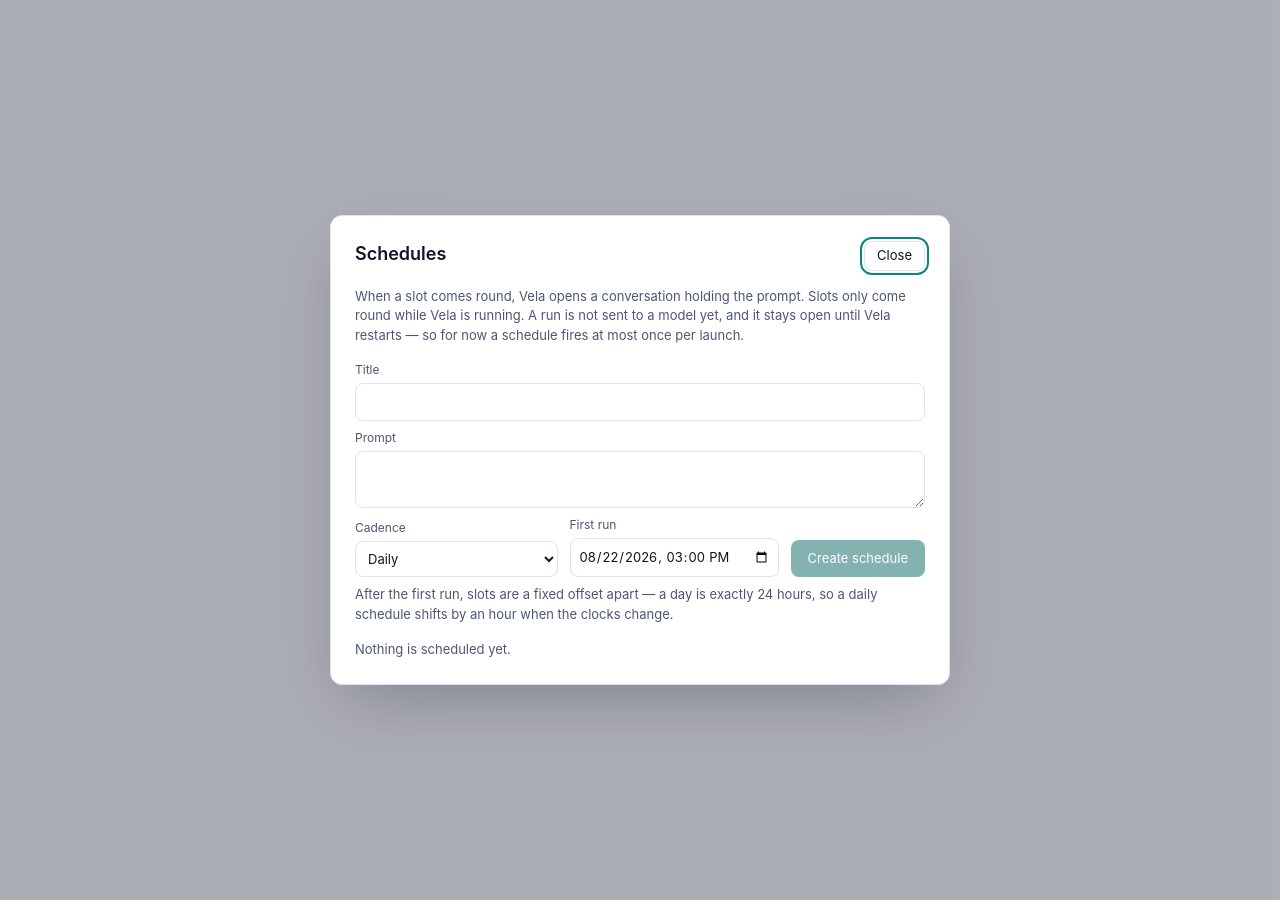
Test: the schedules pane › opens the run history on request and does not read it before
Click the field labelled "Title": x=640, y=402 top-left (355, 383), bottom-right (925, 421)
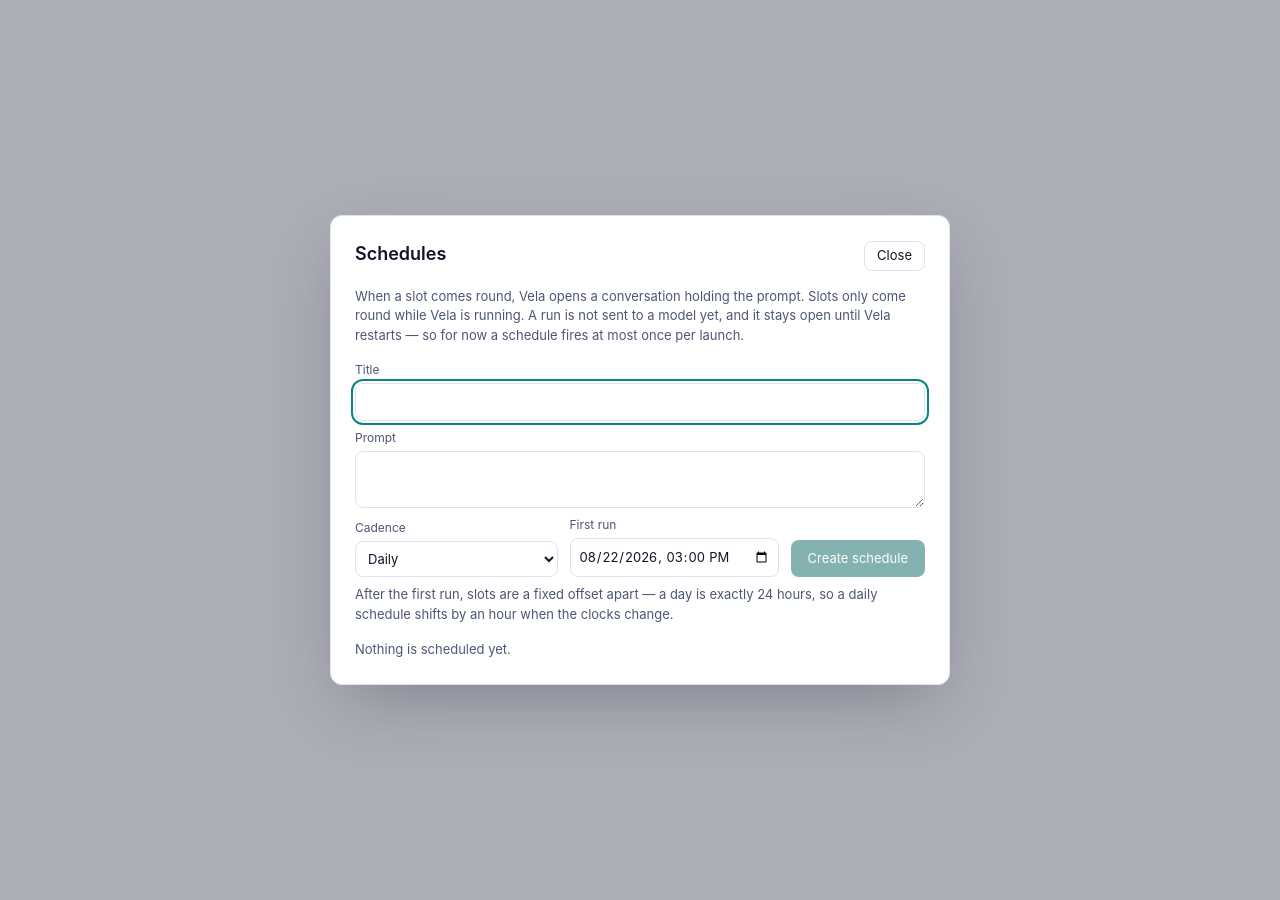
Type keys "morning digest"
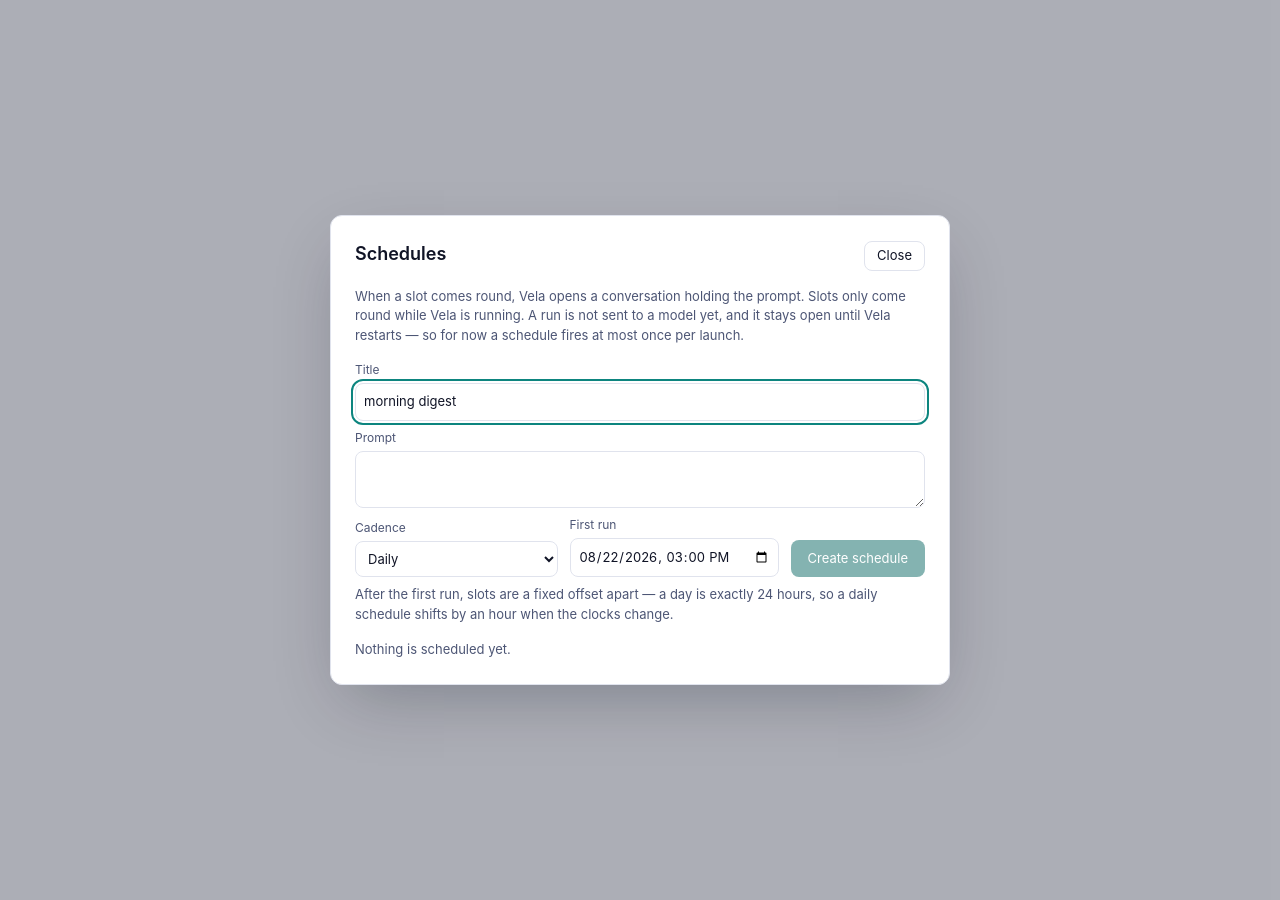
Click the text box labelled "Prompt": x=640, y=479 top-left (355, 451), bottom-right (925, 508)
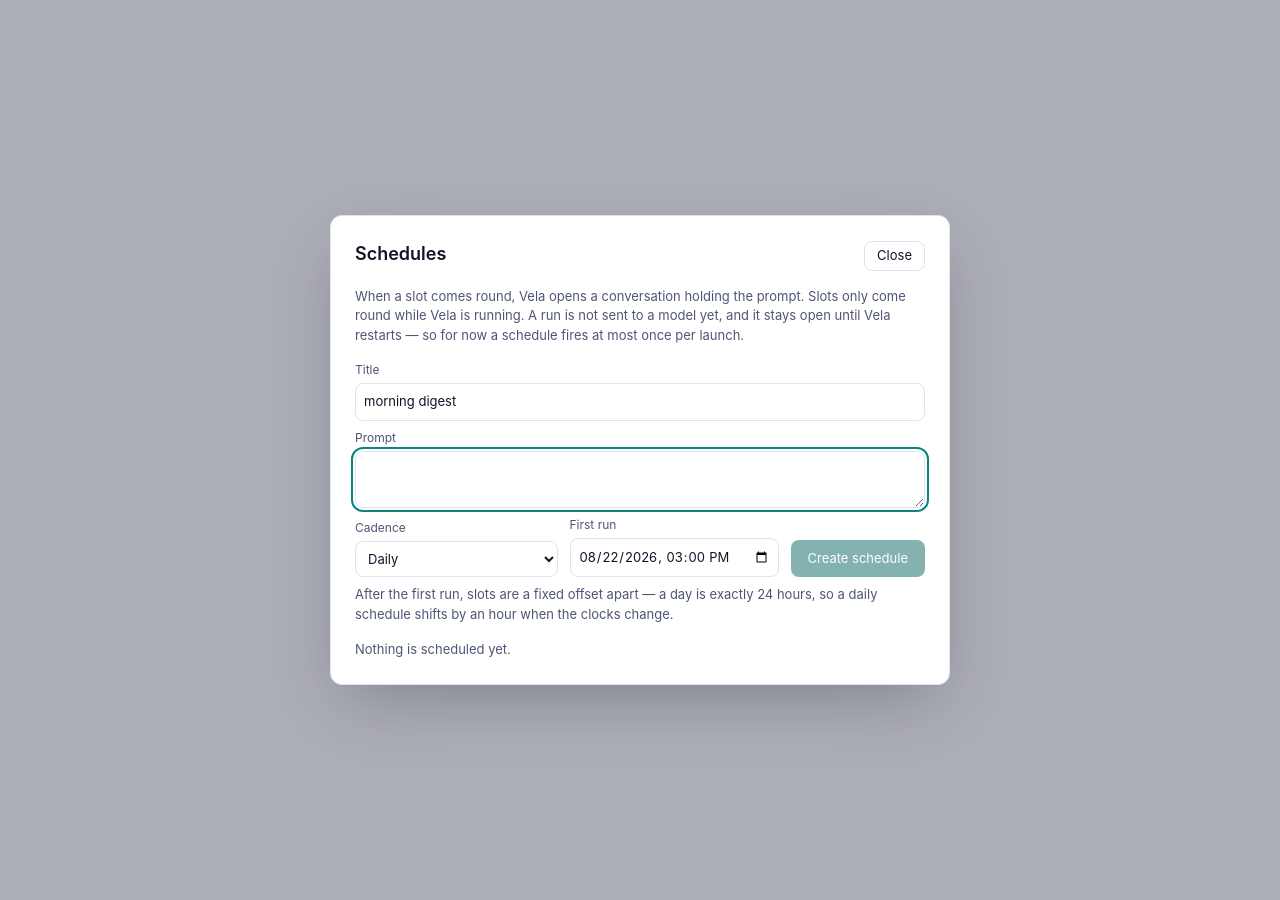
Type keys "summarise"
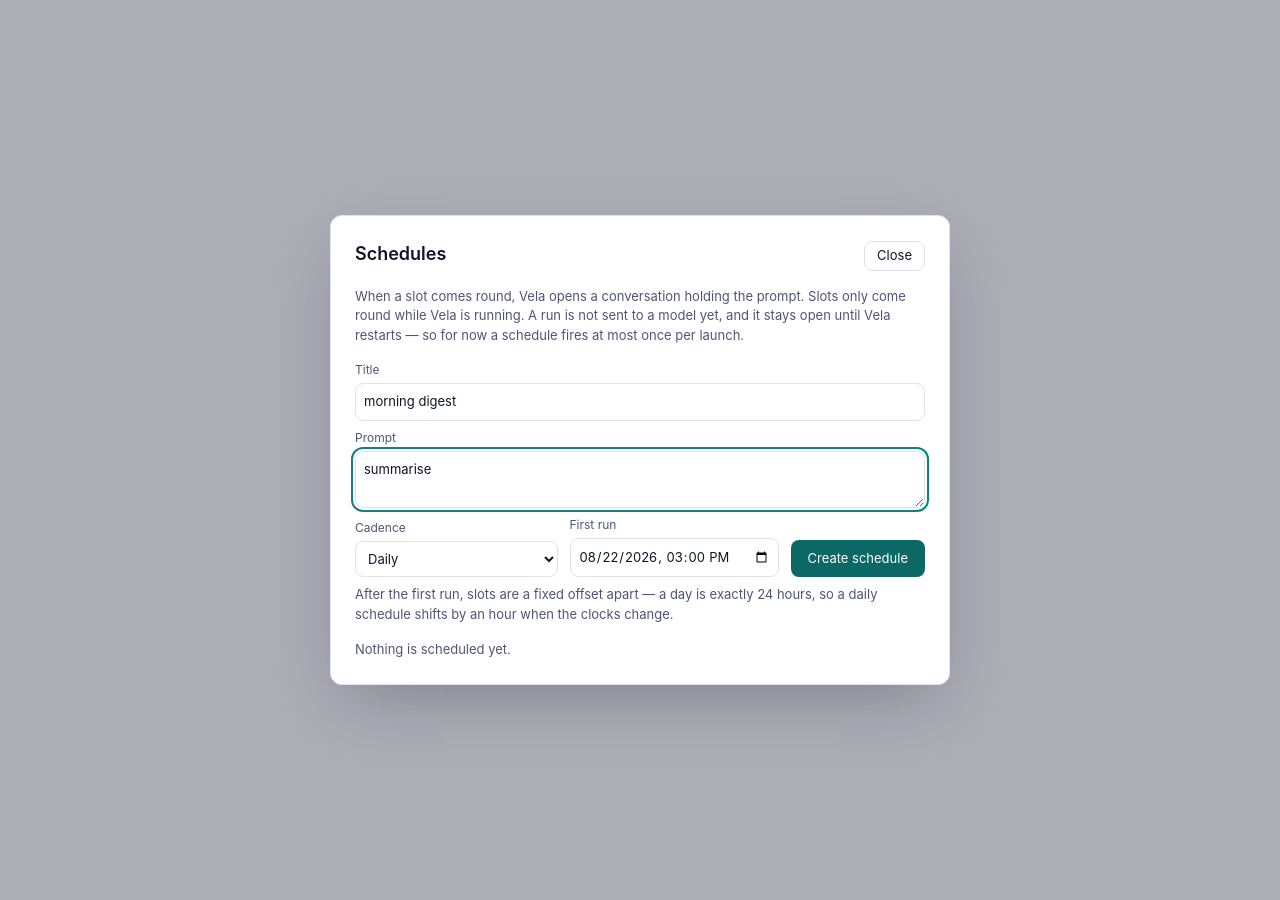
Click the button "Create schedule": x=858, y=559 top-left (790, 540), bottom-right (925, 577)
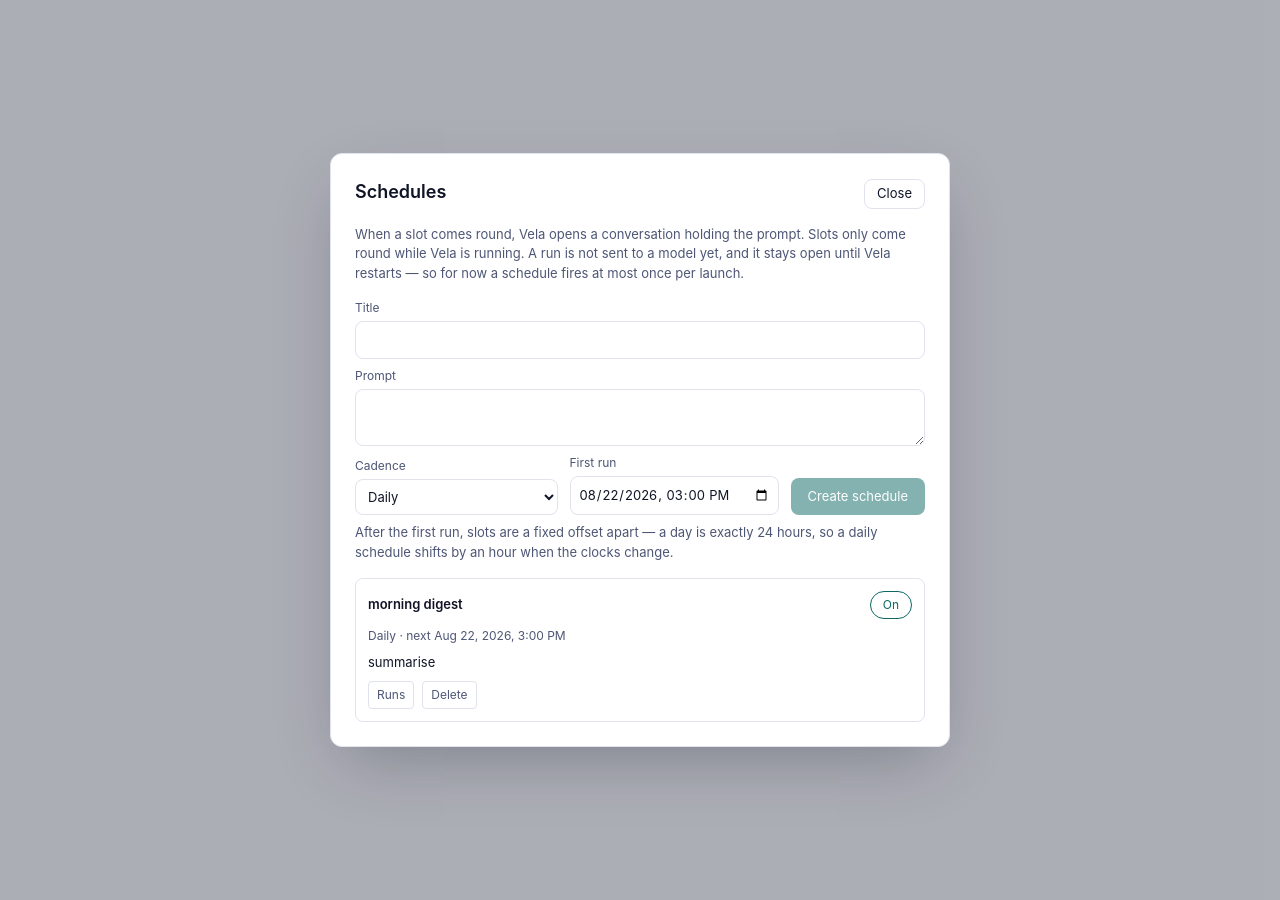
Result: the switch named "Enabled: morning digest" is shown at top-left (870, 591), bottom-right (912, 619)
Click the button with aria-label "Runs: morning digest": x=391, y=695 top-left (368, 681), bottom-right (414, 709)
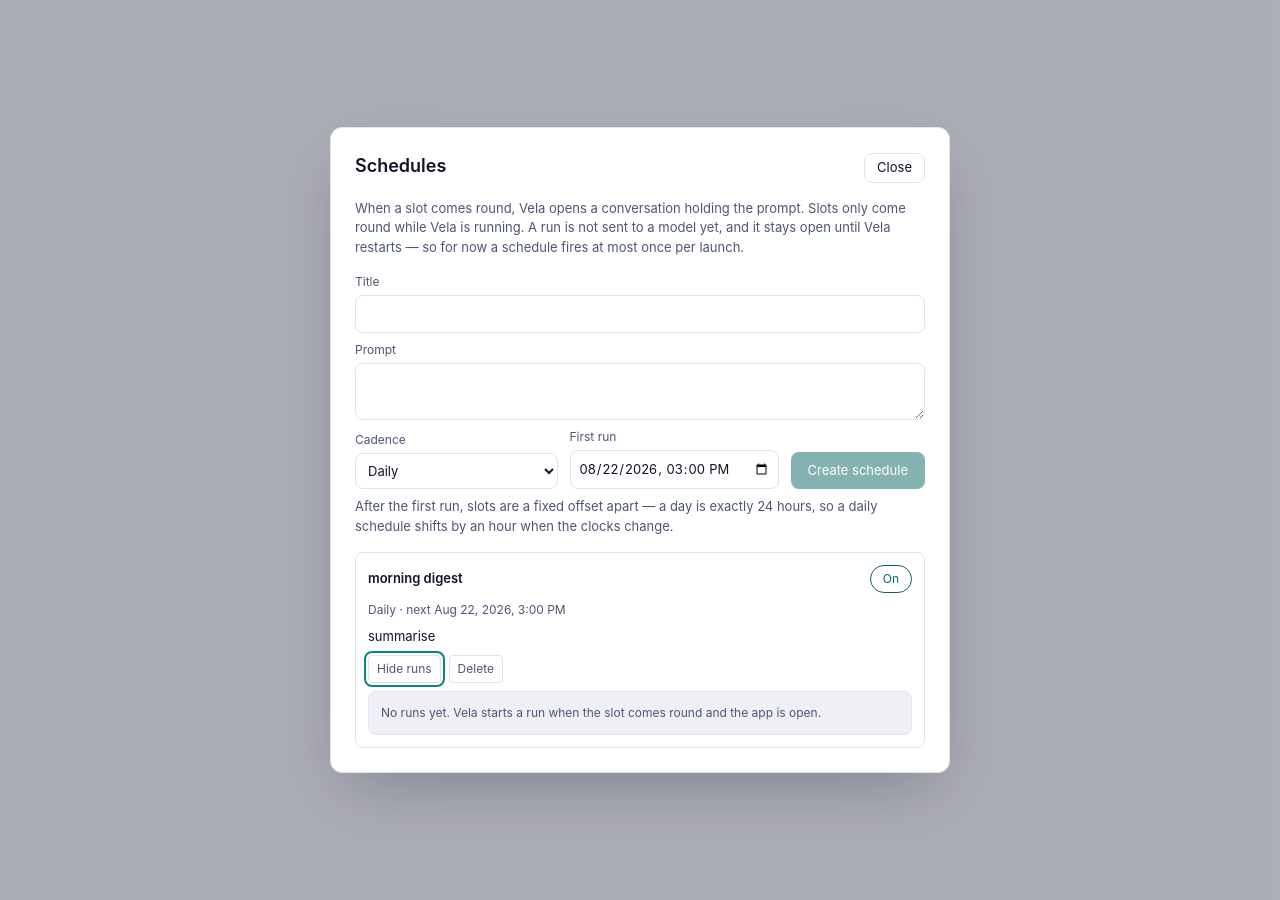
Result: the text "No runs yet. Vela starts a run when the slot comes round" is shown at top-left (381, 705), bottom-right (821, 720)
